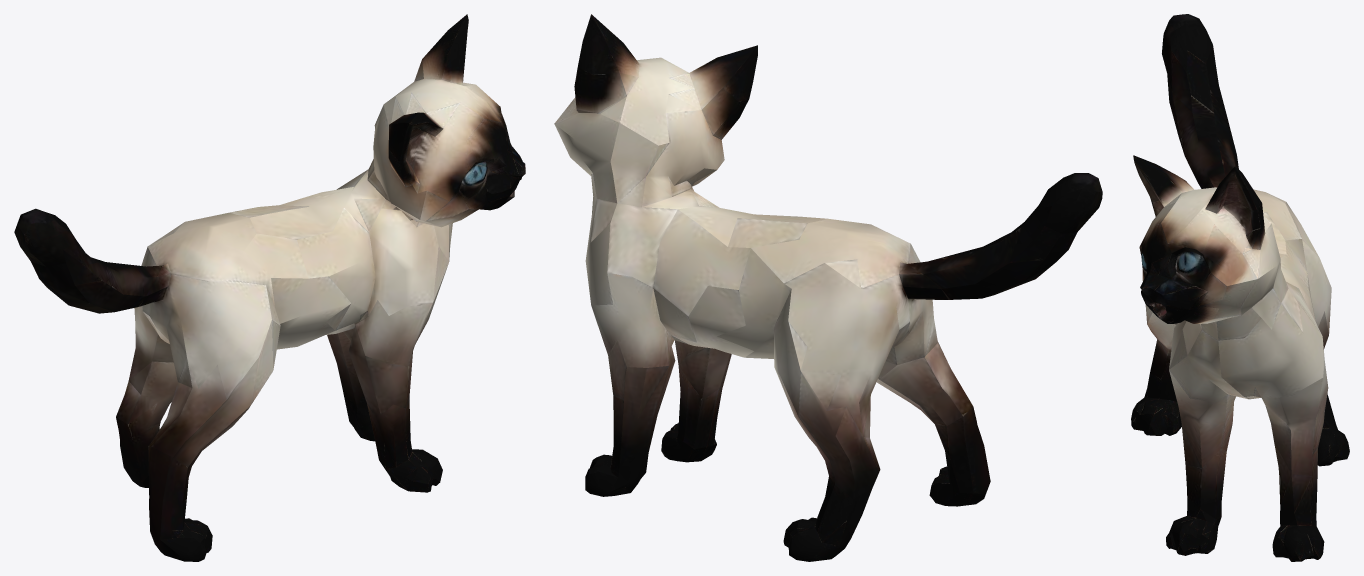
File: TRILLBY-lo.glb
3 views of the same model, side by side, from view 1: azimuth 30°, elevation 25°; view 2: azimuth 150°, elevation 25°; view 3: azimuth 270°, elevation 25° (orthographic). The views are drawn at different scales.
Visible parts, largest first — view 1: output_unwrapped; view 2: output_unwrapped; view 3: output_unwrapped.
Boxes of the visible parts, x1=… form: output_unwrapped: x1=14, y1=14, x2=525, y2=561; output_unwrapped: x1=554, y1=14, x2=1102, y2=561; output_unwrapped: x1=1131, y1=14, x2=1349, y2=561.
Bounding box in the file's own units: 1.21 × 1 × 0.4756.
1 material, 1 textured.
